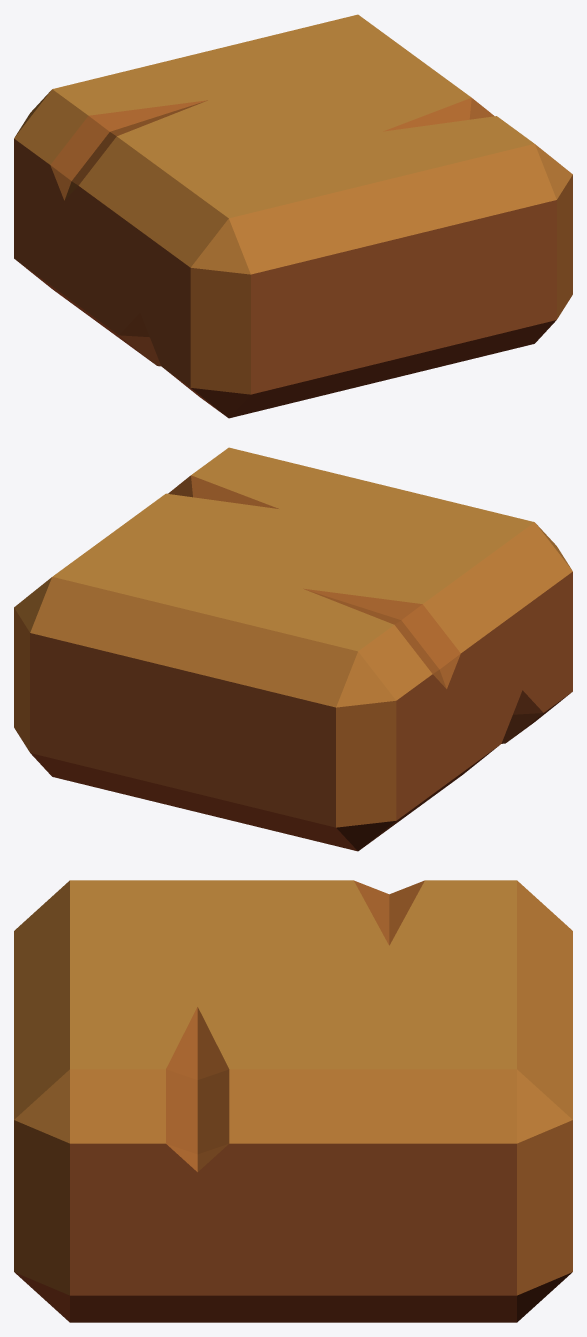
File: m_kub_wood_flatMini.FBX
The picture shows the model from 3 angles, top to bottom: view 1: azimuth 30°, elevation 25°; view 2: azimuth 150°, elevation 25°; view 3: azimuth 270°, elevation 25°; orthographic projection. The views are drawn at different scales.
Parts seen in each view (by area): view 1: m_kub_wood_flatMini; view 2: m_kub_wood_flatMini; view 3: m_kub_wood_flatMini.
Part boxes in pixels (x1=…): m_kub_wood_flatMini: x1=14, y1=14, x2=572, y2=418; m_kub_wood_flatMini: x1=14, y1=447, x2=572, y2=851; m_kub_wood_flatMini: x1=14, y1=880, x2=572, y2=1322.
Bounding box in the file's own units: 1 × 0.5 × 1.
